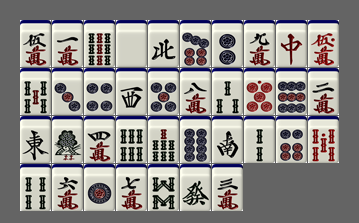0m: (308, 20, 339, 67)
0p: (244, 68, 275, 115)
0s: (308, 116, 339, 163)
1m: (52, 20, 83, 67)
1p: (84, 164, 115, 211)
1s: (52, 116, 83, 163)
1z: (20, 116, 51, 163)
2m: (308, 68, 339, 115)
2p: (212, 20, 243, 67)
2s: (244, 116, 275, 163)
2z: (212, 116, 243, 163)
3m: (212, 164, 243, 211)
3p: (52, 68, 83, 115)
3s: (212, 68, 243, 115)
3z: (116, 68, 147, 115)
4m: (84, 116, 115, 163)
4p: (84, 68, 115, 115)
4s: (20, 164, 51, 211)
4z: (148, 20, 179, 67)
5m: (20, 20, 51, 67)
5p: (148, 68, 179, 115)
5s: (20, 68, 51, 115)
5z: (116, 20, 147, 67)
6m: (52, 164, 83, 211)
6p: (276, 116, 307, 163)
6s: (116, 116, 147, 163)
6z: (180, 164, 211, 211)
7m: (116, 164, 147, 211)
7p: (180, 20, 211, 67)
7s: (148, 116, 179, 163)
7z: (276, 20, 307, 67)
8m: (180, 68, 211, 115)
8p: (180, 116, 211, 163)
8s: (148, 164, 179, 211)
9m: (244, 20, 275, 67)
9p: (276, 68, 307, 115)
9s: (84, 20, 115, 67)
